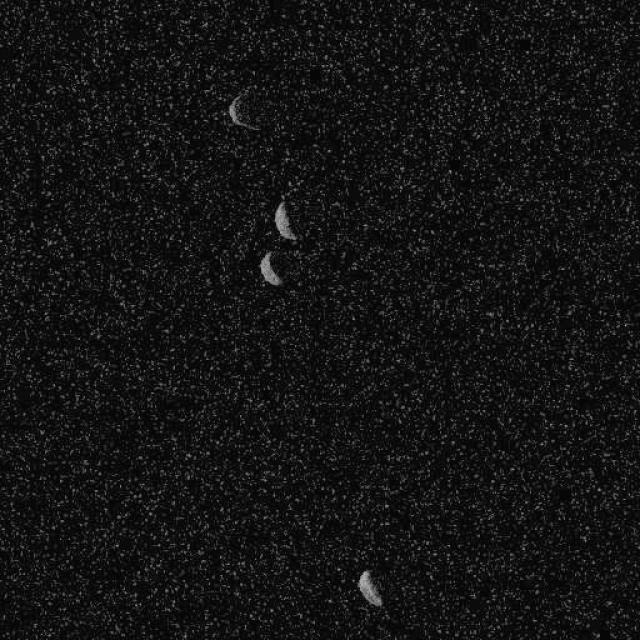D2: (226, 86, 262, 132), (356, 568, 384, 608), (257, 248, 285, 288), (272, 199, 298, 241)
